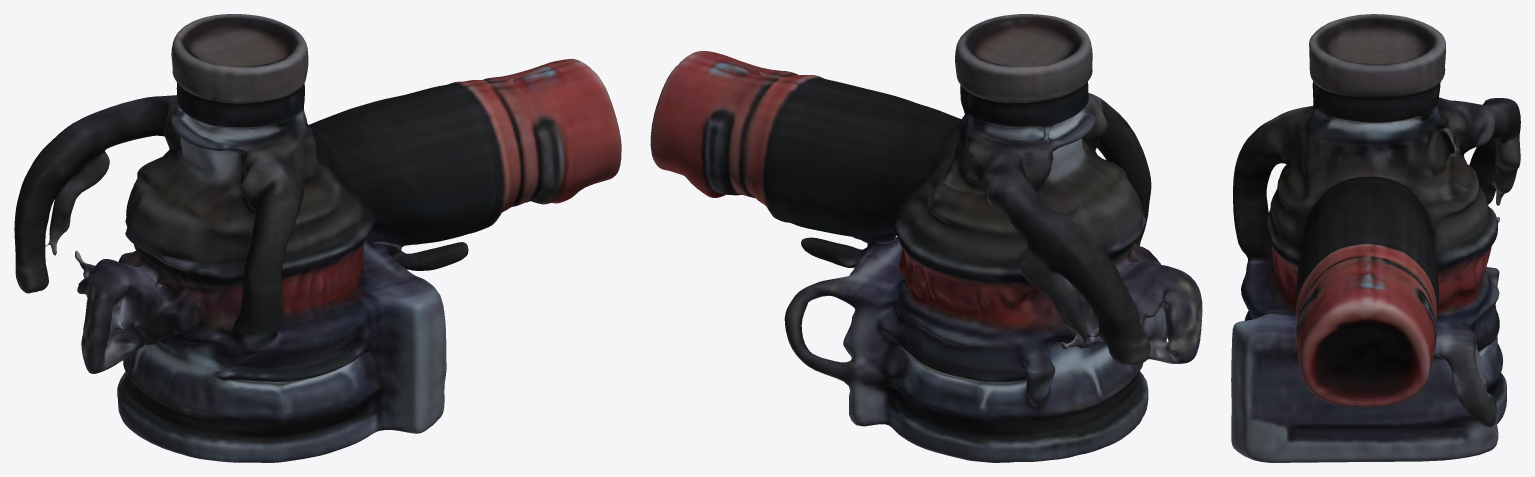
The model's file is b16dcd1e4126_TurboBoost_bonus_mo.fbx.
The picture shows the model from 3 angles, left to right: view 1: azimuth 30°, elevation 25°; view 2: azimuth 150°, elevation 25°; view 3: azimuth 270°, elevation 25°; orthographic projection. The views are drawn at different scales.
Visible parts, largest first — view 1: high_poly; view 2: high_poly; view 3: high_poly.
Boxes of the visible parts, x1=… form: high_poly: x1=14, y1=14, x2=621, y2=462; high_poly: x1=650, y1=14, x2=1202, y2=462; high_poly: x1=1231, y1=14, x2=1520, y2=462.
Size of the model in its own units: 100 by 68.14 by 49.52.
